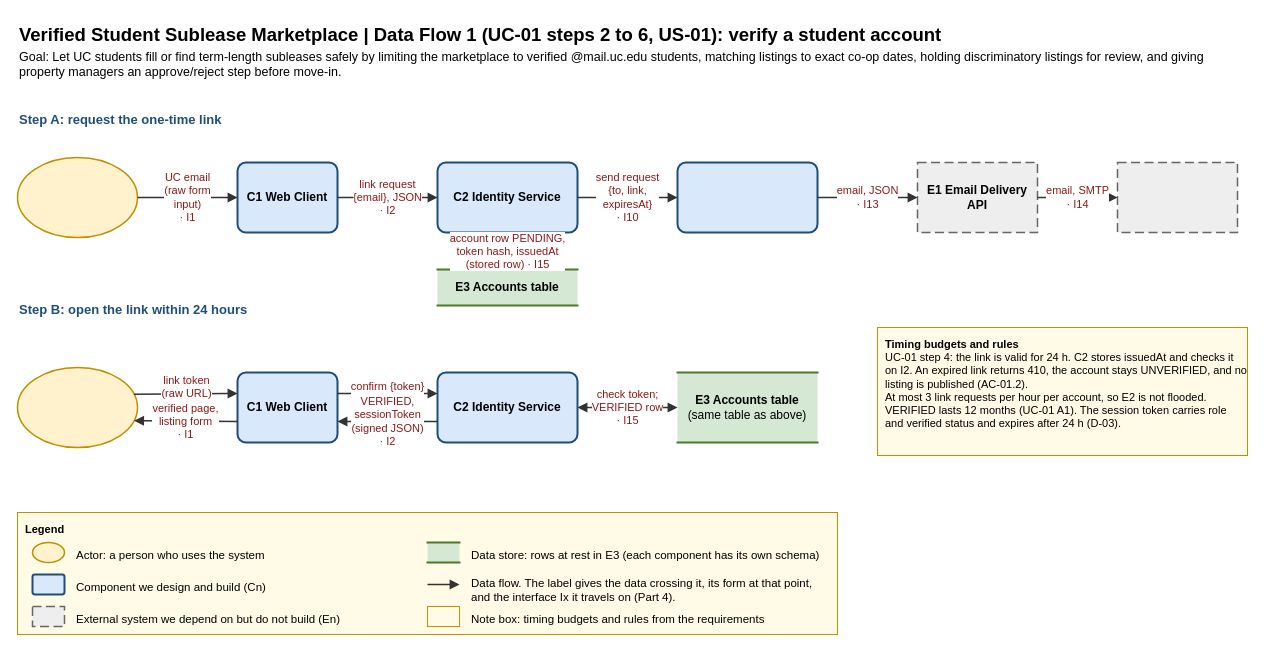
Image size: 1266x652. Some labels were removed from this diagram. Each missing label, with the centre of its shape:
"C8 Notification Service" goes at point (747, 197).
"E2 Recipient Mailboxes" goes at point (1177, 197).
"Student (clicks the emailed link)" goes at point (77, 407).
"Subleasing student" goes at point (77, 197).
